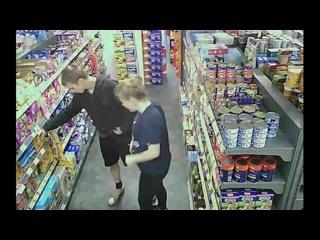Normal: (40, 65, 134, 207), (116, 76, 172, 210)
